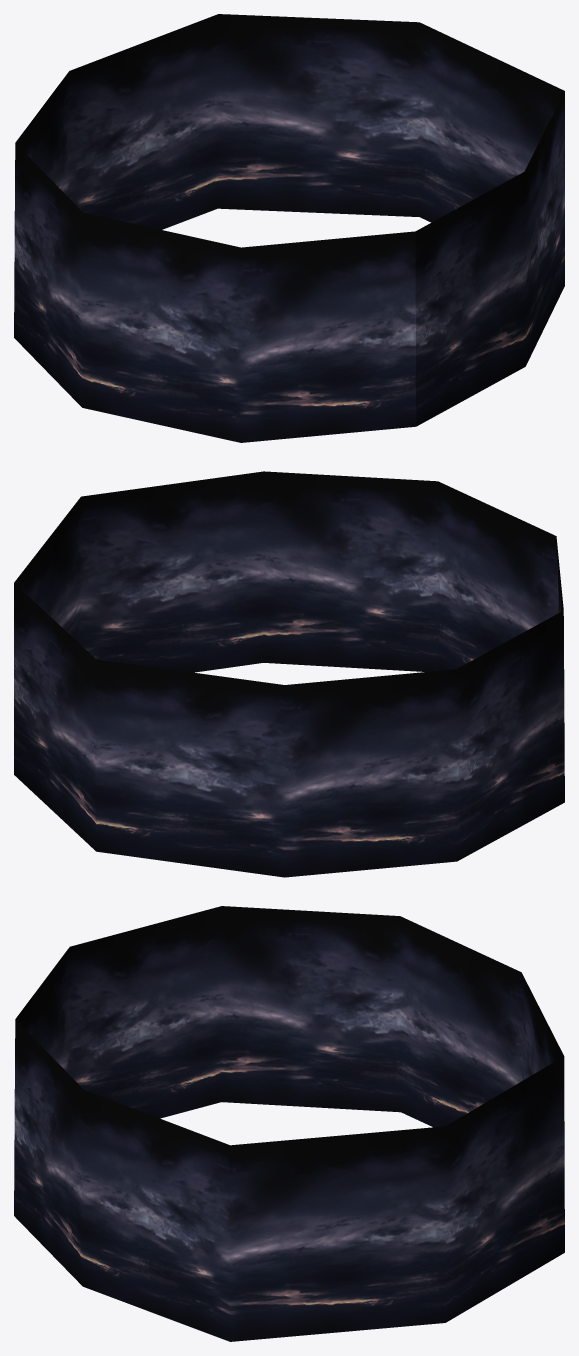
The picture shows the model from 3 angles, top to bottom: view 1: azimuth 30°, elevation 25°; view 2: azimuth 150°, elevation 25°; view 3: azimuth 270°, elevation 25°; orthographic projection. The views are drawn at different scales.
Visible parts, largest first — view 1: wu; view 2: wu; view 3: wu.
Boxes of the visible parts, x1=… form: wu: x1=14, y1=14, x2=564, y2=442; wu: x1=14, y1=471, x2=564, y2=877; wu: x1=14, y1=906, x2=564, y2=1341.
Bounding box in the file's own units: 5055 × 1933 × 4908.
